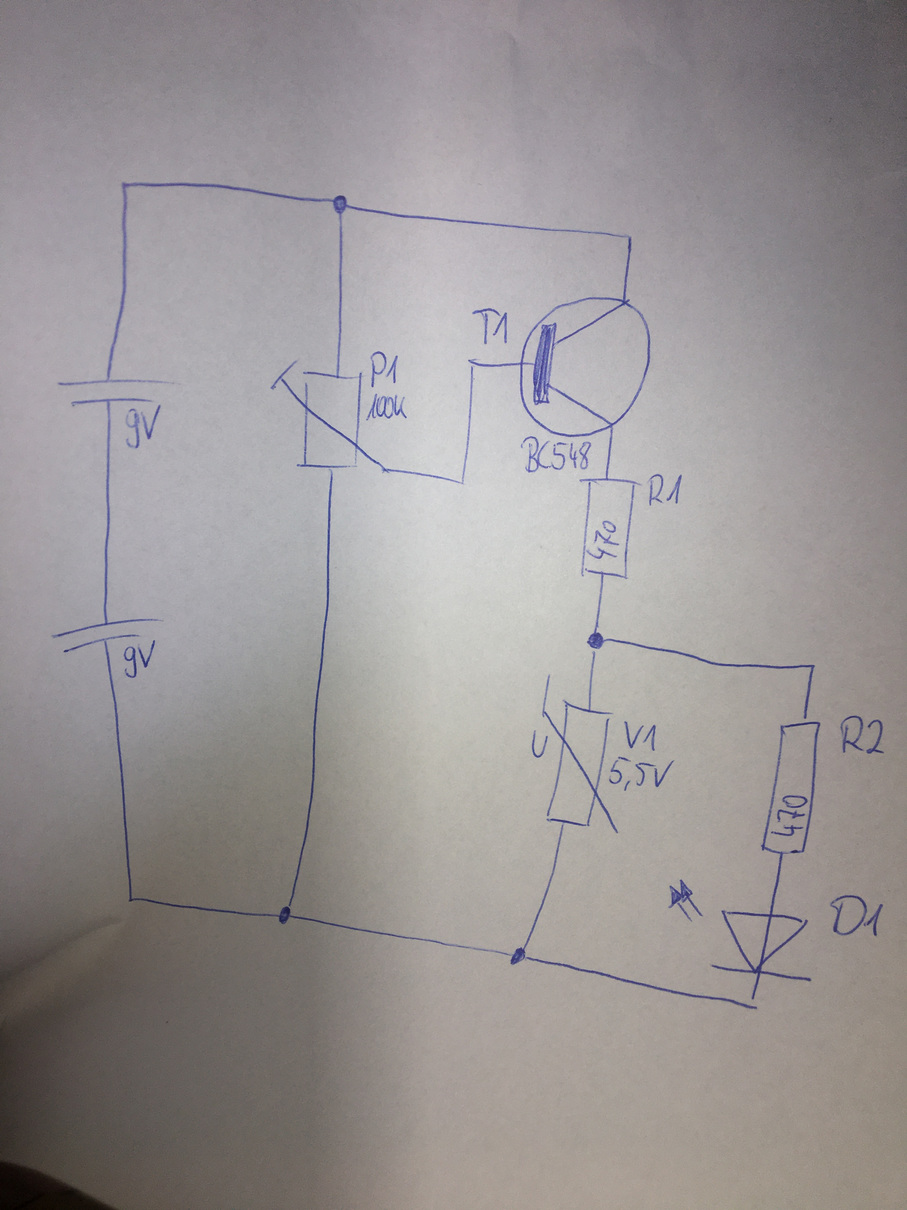diode.light_emitting: (667, 877, 815, 984)
junction: (585, 629, 608, 656), (508, 945, 529, 967), (330, 193, 350, 216), (277, 903, 294, 927), (744, 994, 760, 1013), (116, 177, 131, 193), (621, 232, 636, 247), (466, 356, 480, 371), (123, 894, 136, 906), (805, 660, 818, 672), (457, 476, 468, 488)
resistor: (756, 714, 827, 861), (574, 473, 643, 584)
resistor.adjustable: (268, 357, 390, 475)
text: (826, 892, 887, 941), (518, 434, 592, 473), (607, 755, 676, 793), (836, 713, 887, 757), (122, 402, 162, 451), (769, 792, 809, 840), (469, 305, 511, 347), (586, 518, 622, 563), (645, 470, 685, 508), (122, 639, 157, 681), (363, 393, 410, 424), (621, 717, 660, 754), (367, 349, 400, 390), (528, 727, 550, 760)
transistor: (516, 293, 653, 440)
varistor: (540, 673, 620, 836)
voltage.dc: (47, 613, 167, 656), (53, 370, 181, 408)
